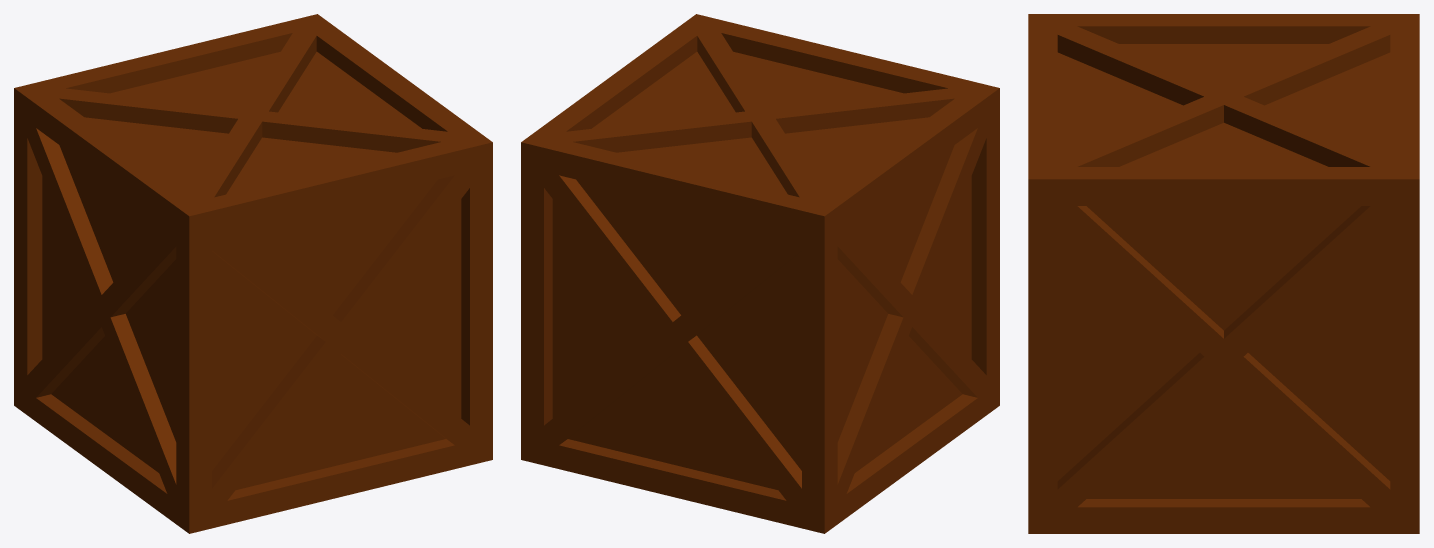
The model's file is Wooden_Crate.fbx.
3 renders of one model, left to right at view 1: azimuth 30°, elevation 25°; view 2: azimuth 150°, elevation 25°; view 3: azimuth 270°, elevation 25°, orthographic. The views are drawn at different scales.
Parts seen in each view (by area): view 1: Wooden_Crate; view 2: Wooden_Crate; view 3: Wooden_Crate.
Part boxes in pixels (<box>): Wooden_Crate: <box>14,14,492,533</box>; Wooden_Crate: <box>521,14,999,533</box>; Wooden_Crate: <box>1028,14,1419,533</box>.
Size of the model in its own units: 40 by 40 by 40.
